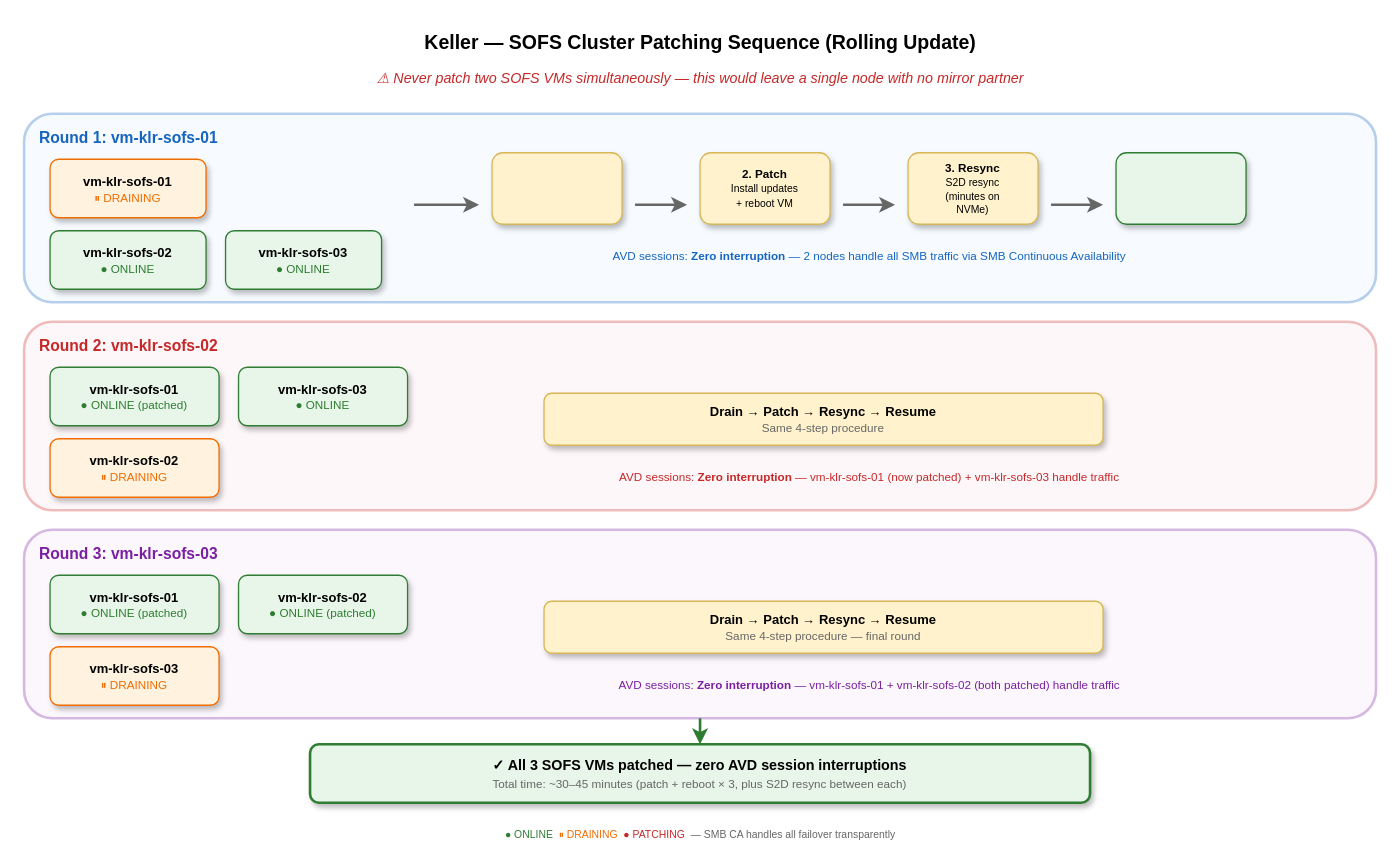
The diagram is 1399 pixels wide and 864 high, and some of its shapes have lost their labels. The centre of each missing label's shape, as x and y in pixels:
1. Drain Suspend- ClusterNode -Drain: [558,189]
4. Resume Resume- ClusterNode: [1182,189]
